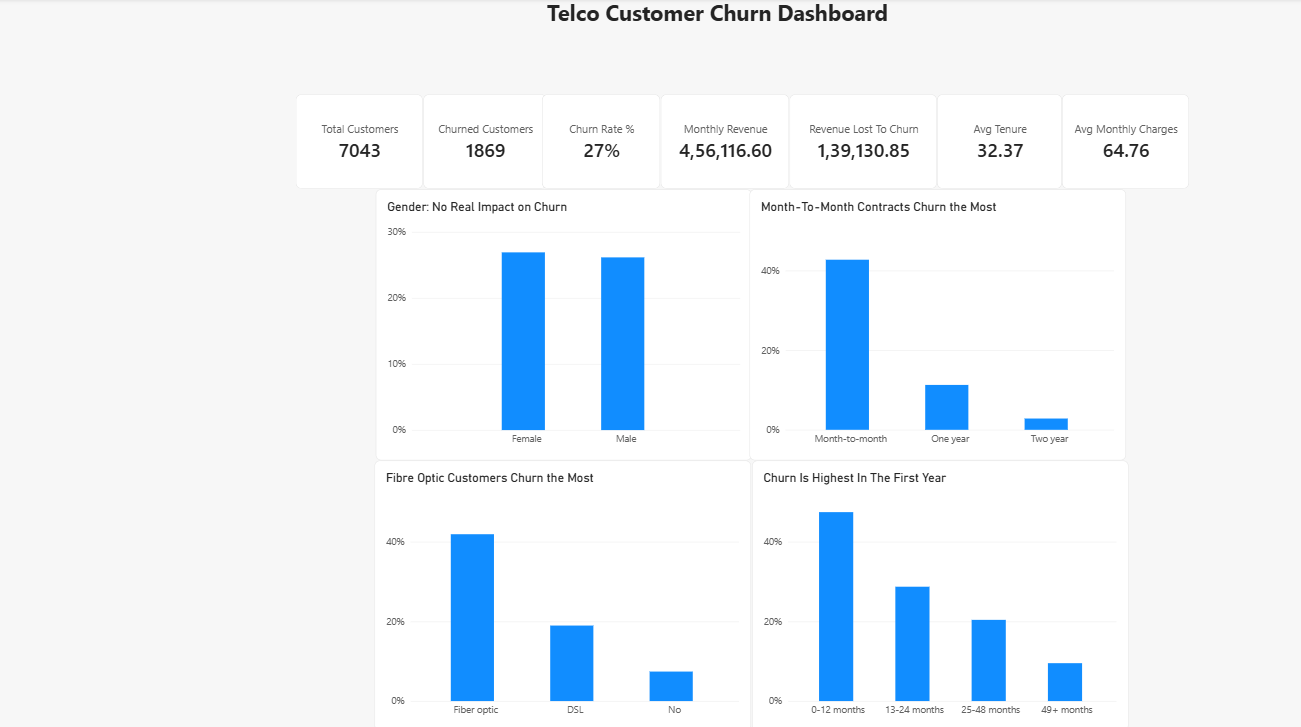

The dashboard page shown, as its layout file describes it:
{"tool":"powerbi","page":{"name":"Customer Churn Overview","canvas":[1920,1080],"ordinal":0},"visuals":[{"type":"cardVisual","fields":{"Data":["Telco-Customer-Churn.Total Customers"]},"box":[439.9,141.7,187.7,139.9],"z":0},{"type":"cardVisual","fields":{"Data":["Telco-Customer-Churn.Churned Customers"]},"box":[627.6,141.7,182.2,139.9],"z":1},{"type":"cardVisual","fields":{"Data":["Telco-Customer-Churn.Churn Rate %"]},"box":[802.5,141.7,174.8,139.9],"z":2},{"type":"cardVisual","fields":{"Data":["Telco-Customer-Churn.Monthly Revenue"]},"box":[977.3,141.7,189.6,139.9],"z":3},{"type":"cardVisual","fields":{"Data":["Telco-Customer-Churn.Revenue Lost To Churn"]},"box":[1166.9,141.7,217.2,139.9],"z":4},{"type":"cardVisual","fields":{"Data":["Telco-Customer-Churn.Avg Tenure"]},"box":[1384.1,141.7,184.1,139.9],"z":5},{"type":"cardVisual","fields":{"Data":["Telco-Customer-Churn.Avg Monthly Charges"]},"box":[1568.1,141.7,187.7,139.9],"z":6},{"type":"clusteredColumnChart","title":"Gender: No Real Impact on Churn","fields":{"Category":["Telco-Customer-Churn.gender"],"Y":["Telco-Customer-Churn.Churn Rate %"]},"box":[557.7,281.6,554,399.4],"z":7},{"type":"clusteredColumnChart","title":"Month-To-Month Contracts Churn the Most","fields":{"Category":["Telco-Customer-Churn.Contract"],"Y":["Telco-Customer-Churn.Churn Rate %"]},"box":[1108,281.6,554,399],"z":8},{"type":"clusteredColumnChart","title":"Fibre Optic Customers Churn the Most","fields":{"Category":["Telco-Customer-Churn.InternetService"],"Y":["Telco-Customer-Churn.Churn Rate %"]},"box":[555.8,681,554,399],"z":9},{"type":"clusteredColumnChart","title":"Churn Is Highest In The First Year","fields":{"Category":["Telco-Customer-Churn.Tenure Group"],"Y":["Telco-Customer-Churn.Churn Rate %"]},"box":[1111.7,681,554,399],"z":10},{"type":"textbox","box":[809.8,0,517.2,101.2],"z":11}]}

Visuals, with their boxes in screenshot pixels (x1, y1, x2, y2), scaled from the page's 1920x1080 canvas onto the 1301x727 screenshot:
cardVisual - Telco-Customer-Churn.Total Customers: x1=298 y1=95 x2=425 y2=190
cardVisual - Telco-Customer-Churn.Churned Customers: x1=425 y1=95 x2=549 y2=190
cardVisual - Telco-Customer-Churn.Churn Rate %: x1=544 y1=95 x2=662 y2=190
cardVisual - Telco-Customer-Churn.Monthly Revenue: x1=662 y1=95 x2=791 y2=190
cardVisual - Telco-Customer-Churn.Revenue Lost To Churn: x1=791 y1=95 x2=938 y2=190
cardVisual - Telco-Customer-Churn.Avg Tenure: x1=938 y1=95 x2=1063 y2=190
cardVisual - Telco-Customer-Churn.Avg Monthly Charges: x1=1063 y1=95 x2=1190 y2=190
"Gender: No Real Impact on Churn" clusteredColumnChart: x1=378 y1=190 x2=753 y2=458
"Month-To-Month Contracts Churn the Most" clusteredColumnChart: x1=751 y1=190 x2=1126 y2=458
"Fibre Optic Customers Churn the Most" clusteredColumnChart: x1=377 y1=458 x2=752 y2=726
"Churn Is Highest In The First Year" clusteredColumnChart: x1=753 y1=458 x2=1129 y2=726
textbox: x1=549 y1=0 x2=899 y2=68
